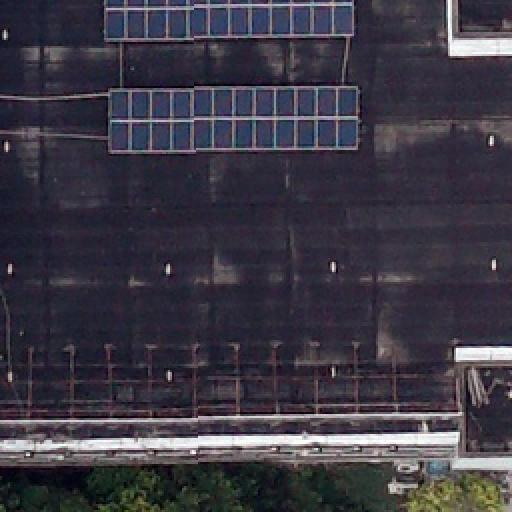solar-panel: (108, 90, 356, 150), (104, 0, 356, 40)
